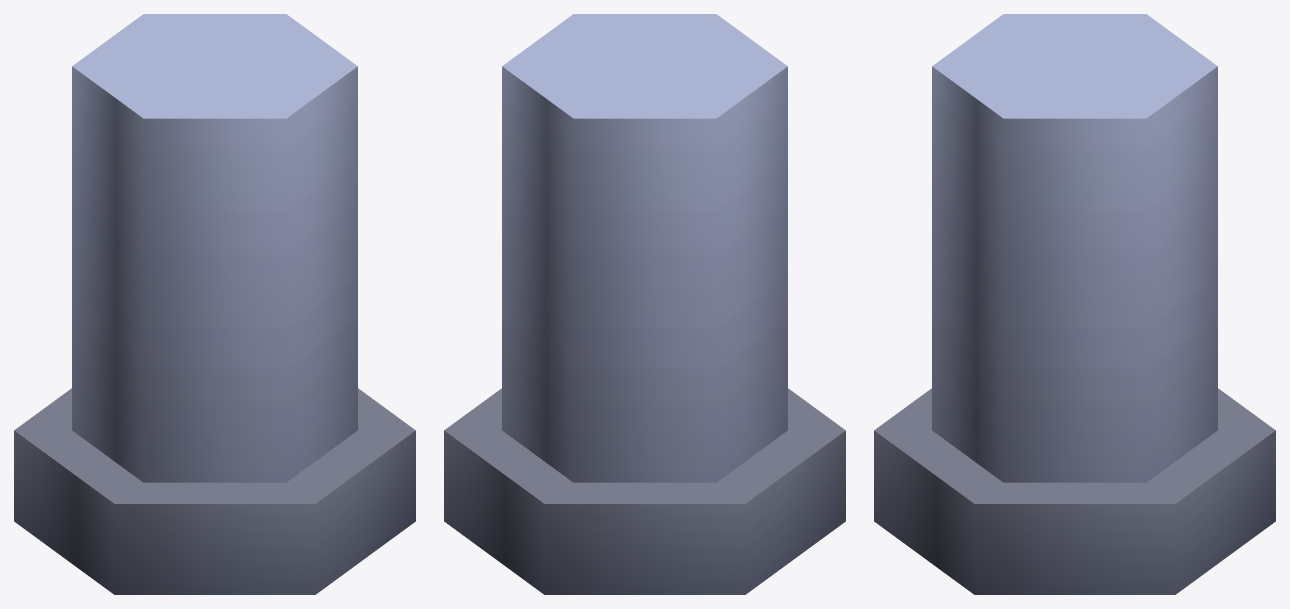
Rendered from pipe-end.glb.
3 renders of one model, left to right at view 1: azimuth 30°, elevation 25°; view 2: azimuth 150°, elevation 25°; view 3: azimuth 270°, elevation 25°, orthographic.
Visible parts, largest first — view 1: pipe-end; view 2: pipe-end; view 3: pipe-end.
Part boxes in pixels (bbox=[...]): pipe-end: bbox=[14, 14, 415, 594]; pipe-end: bbox=[444, 14, 845, 594]; pipe-end: bbox=[874, 14, 1275, 594].
Size of the model in its own units: 0.3464 by 0.5 by 0.4.
1 material, 1 textured.
